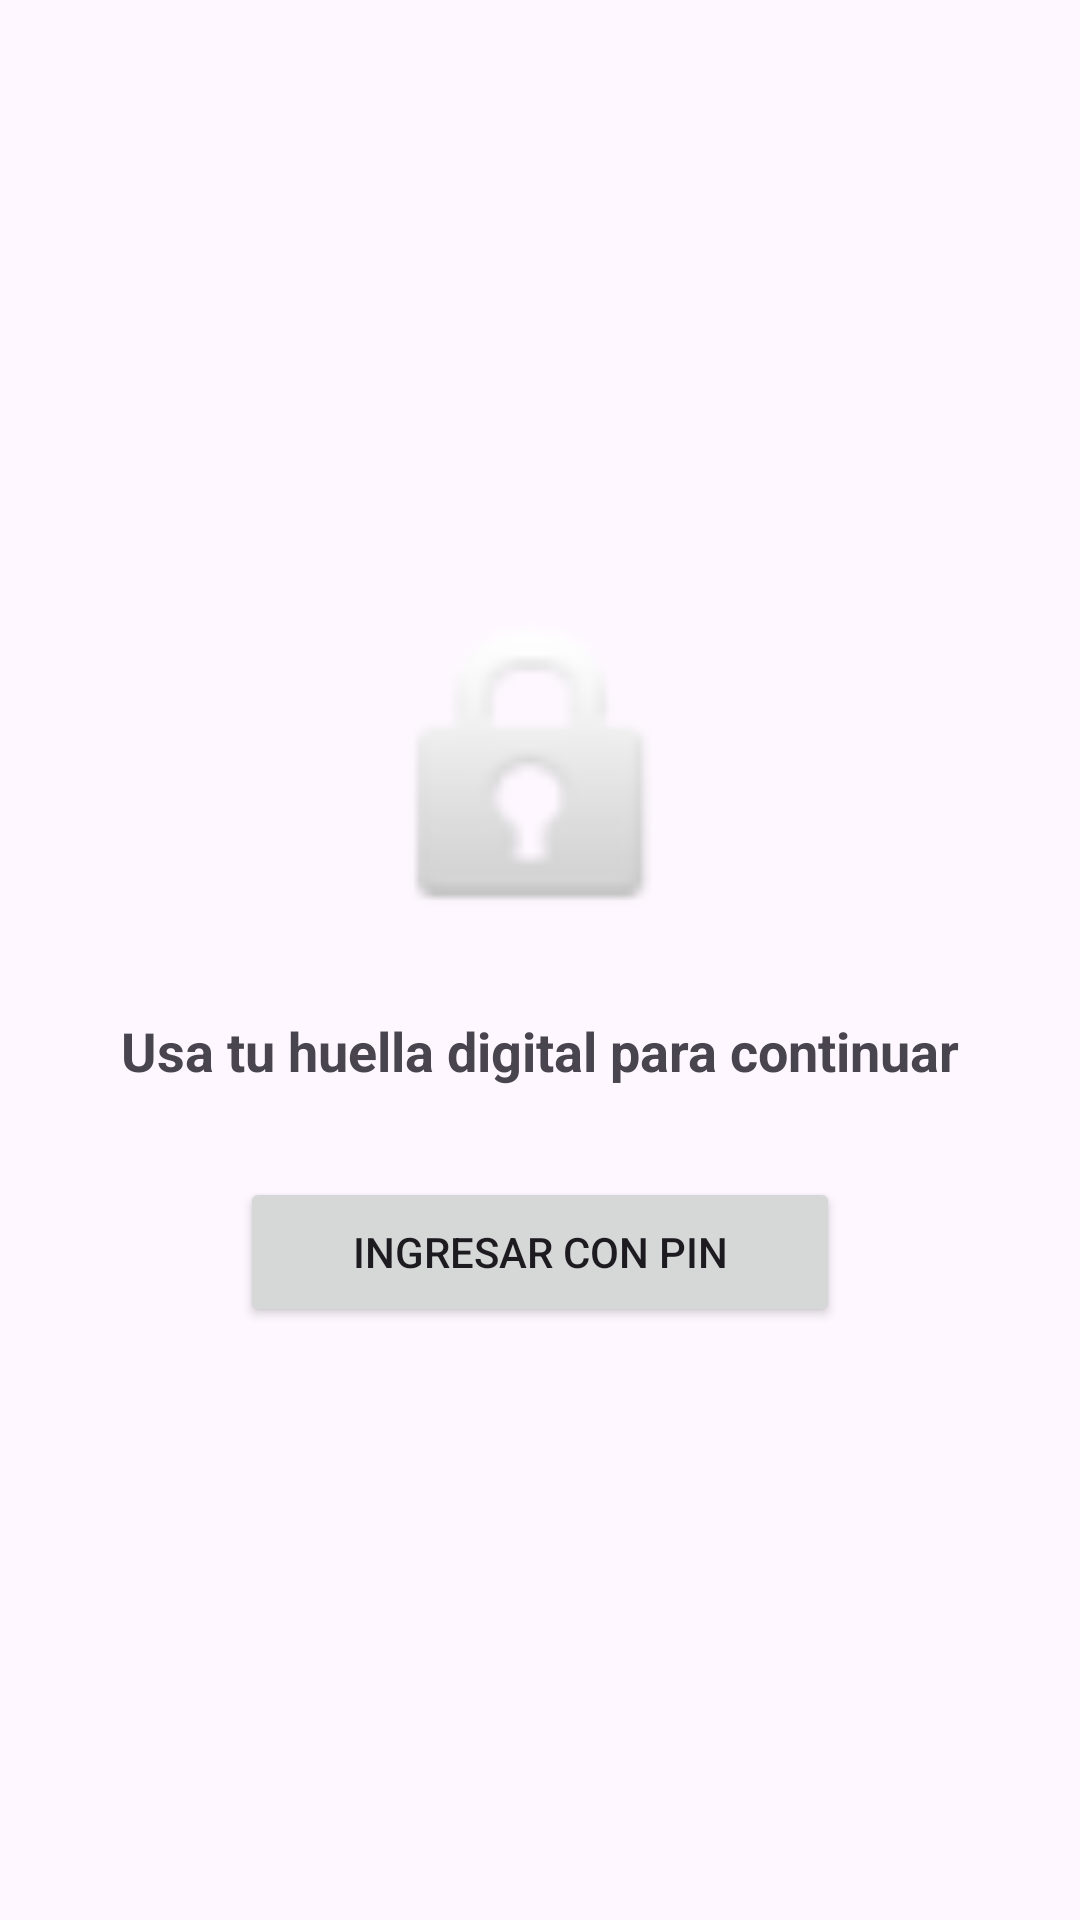

Icon bounding boxes for this 1080*1920 phone screenshot, format (x1, y1, x2, y2):
lock idle: (417, 744, 644, 898)
